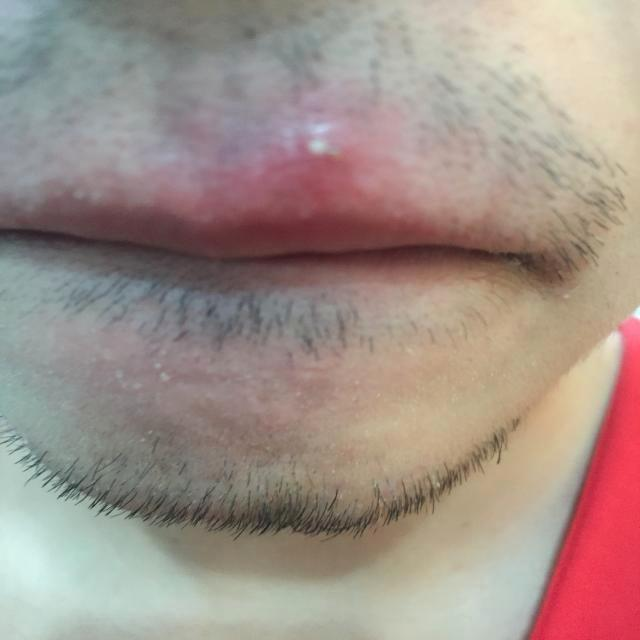Acne: (291, 119, 351, 174)
